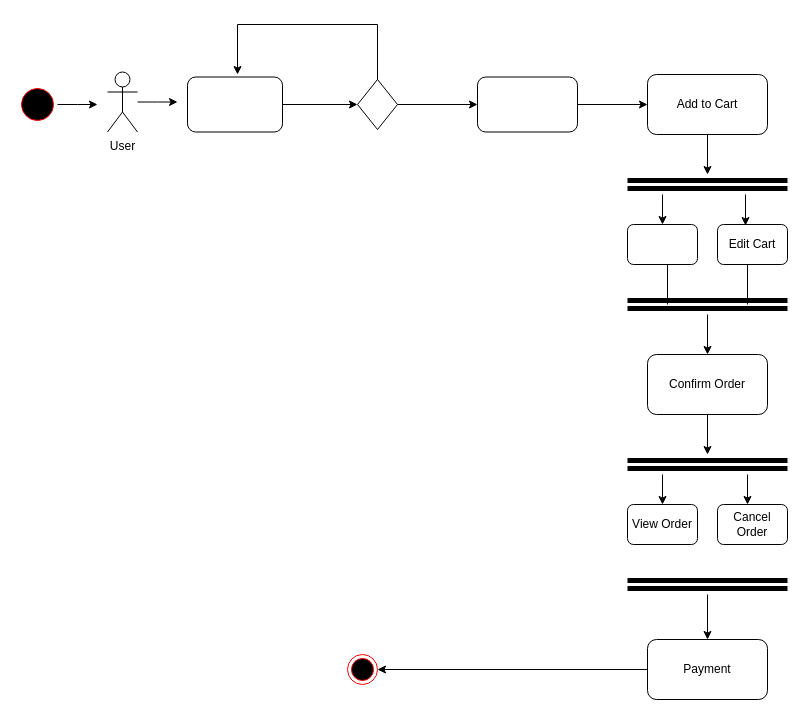
The diagram is 807 pixels wide and 717 high, and some of its shapes have lost their labels. The box of each missing label's shape, as (x1, y1, x2, y2) in pixels:
login: (186, 76, 282, 132)
View Cart: (626, 224, 698, 264)
View Products: (476, 76, 578, 132)
